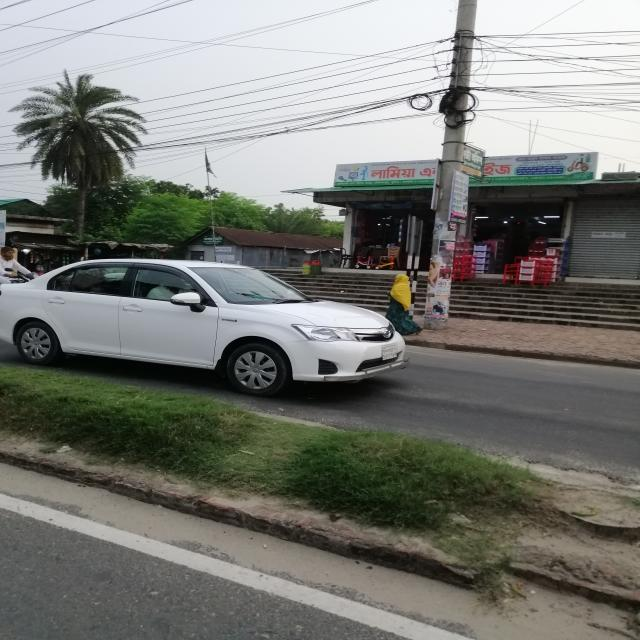Car: (1, 258, 411, 399)
